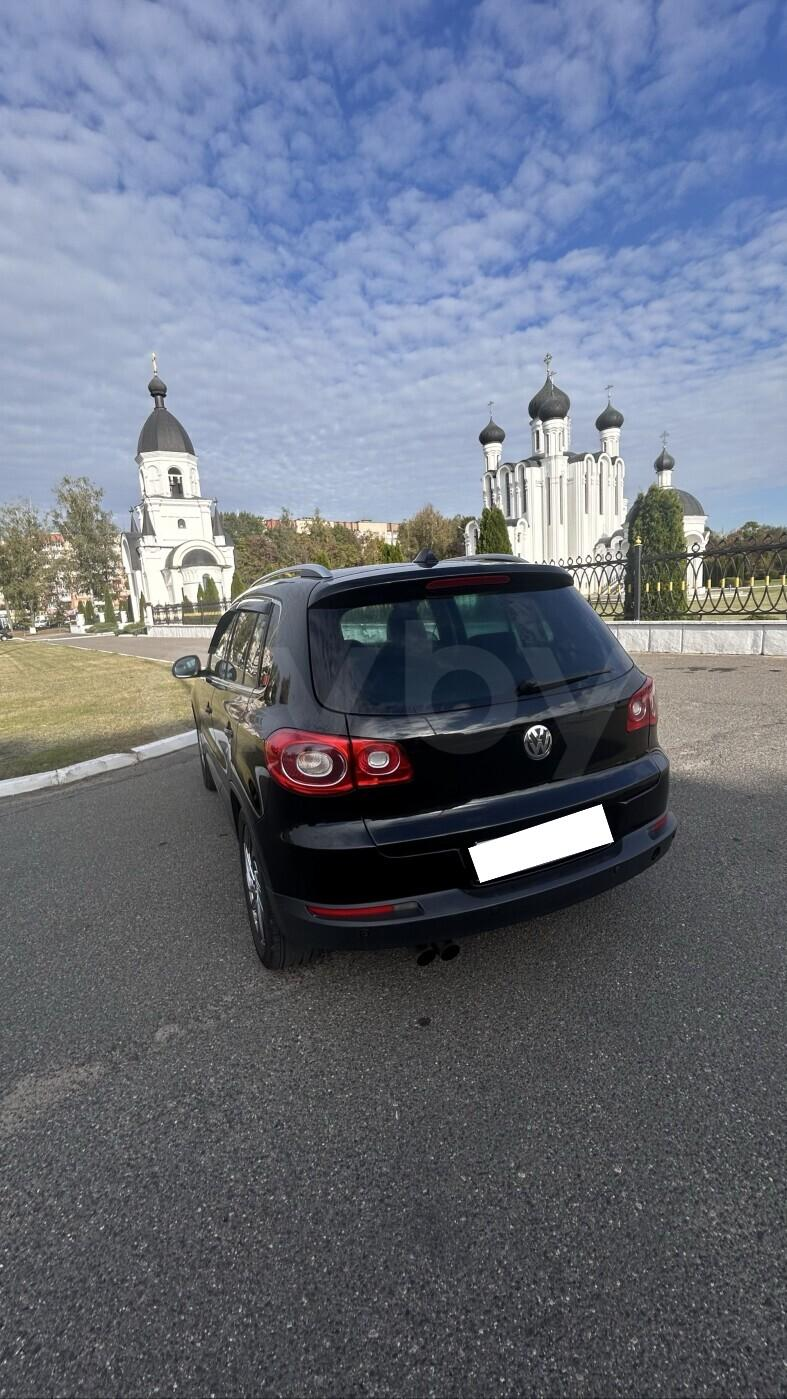Tiguan_2007-2011: (174, 554, 676, 972)
